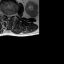CCS_normal: (8, 11, 9, 21)
LFS_normal: (11, 11, 14, 17)
LLS_normal: (9, 12, 11, 19)
RFS_normal: (4, 10, 6, 17)
RLS_normal: (6, 12, 8, 19)
